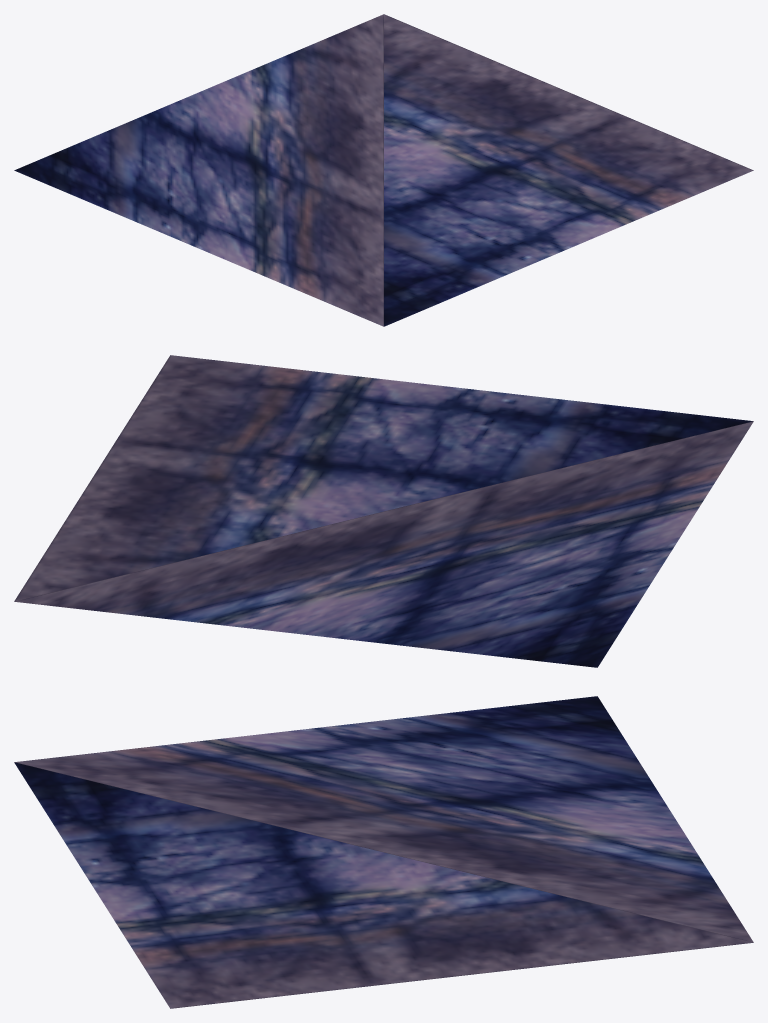
3 renders of one model, top to bottom at view 1: azimuth 30°, elevation 25°; view 2: azimuth 150°, elevation 25°; view 3: azimuth 270°, elevation 25°, orthographic. The views are drawn at different scales.
Parts seen in each view (by area): view 1: Rectangle01; view 2: Rectangle01; view 3: Rectangle01.
Boxes of the visible parts, box(x1,y1,x2,y2) form: Rectangle01: box(14, 14, 753, 326); Rectangle01: box(14, 355, 753, 667); Rectangle01: box(14, 696, 753, 1008).
Size of the model in its own units: 1061 by 0 by 1061.
1 material, 1 textured.
